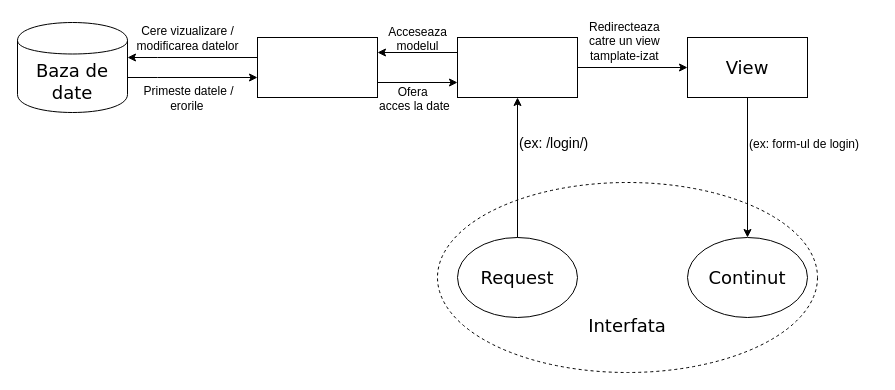
The diagram is 895 pixels wide and 390 high, and some of its shapes have lost their labels. Here are the shapes that lost their labels. From the top down, the centre of each, then its label:
At point (317, 67): "Model".
At point (517, 67): "Controller".
